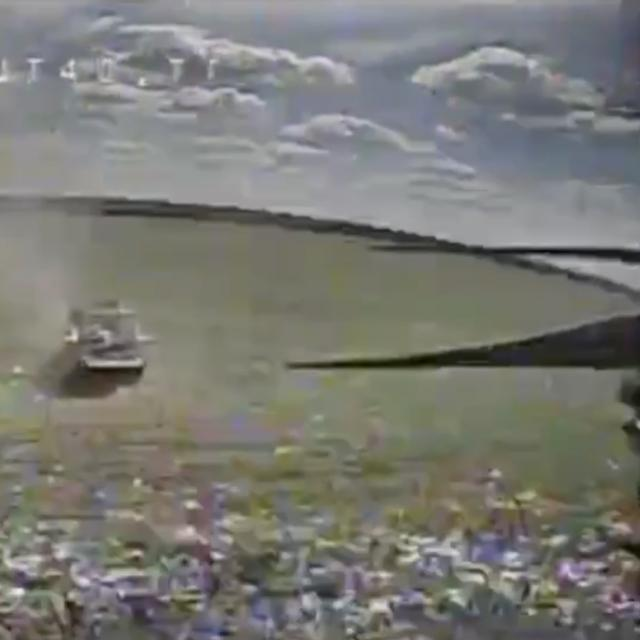vehicle: (68, 298, 156, 380)
